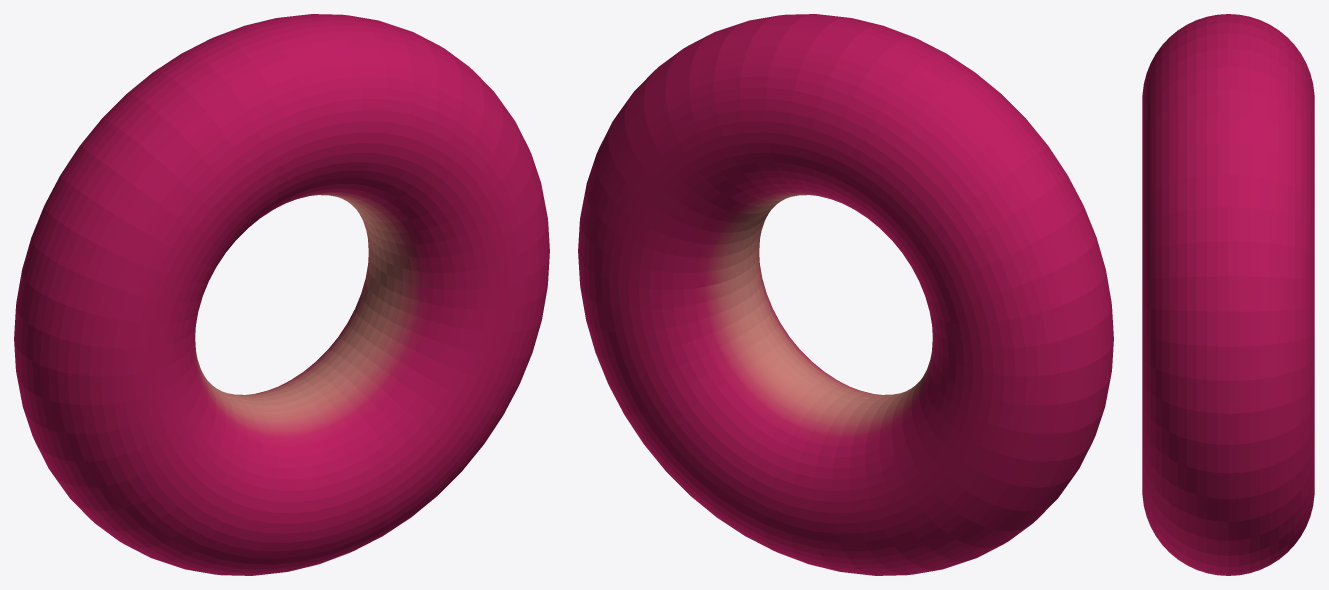
The picture shows the model from 3 angles, left to right: view 1: azimuth 30°, elevation 25°; view 2: azimuth 150°, elevation 25°; view 3: azimuth 270°, elevation 25°; orthographic projection. The views are drawn at different scales.
Parts seen in each view (by area): view 1: world; view 2: world; view 3: world.
Boxes of the visible parts, x1,y1,x2,y2 form: world: (14,14,549,575); world: (578,14,1113,575); world: (1142,14,1314,575).
Bounding box in the file's own units: 31.73 × 31.67 × 9.71.
